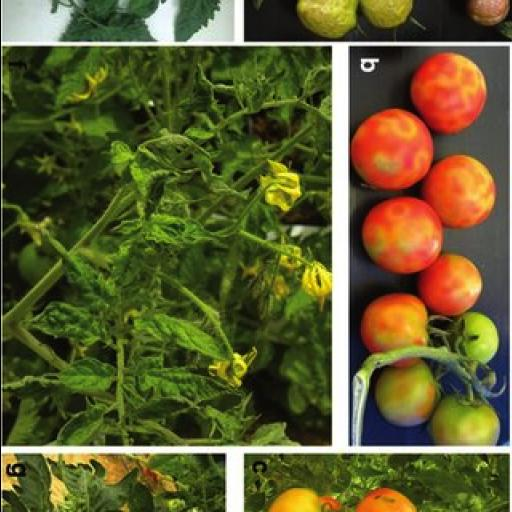Mosaic Virus: (131, 315, 221, 357), (26, 299, 102, 347), (130, 368, 226, 402), (52, 358, 118, 394), (56, 405, 115, 445)
